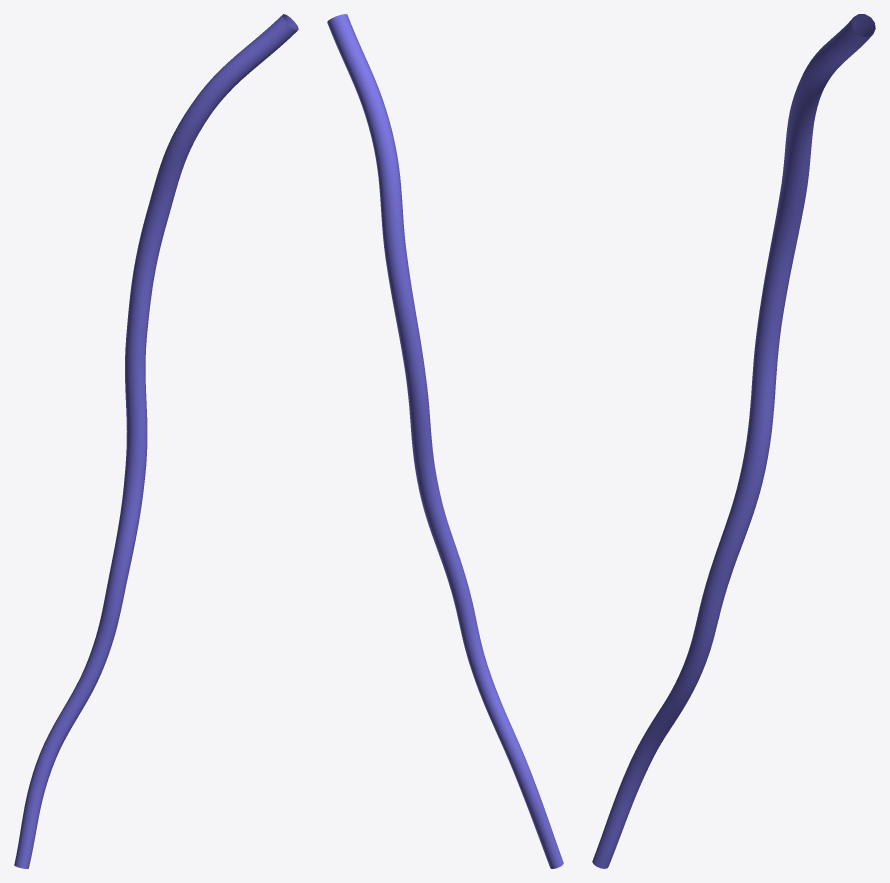
The model's file is Brachial_veins.r_BezierCurve.294.glb.
3 renders of one model, left to right at view 1: azimuth 30°, elevation 25°; view 2: azimuth 150°, elevation 25°; view 3: azimuth 330°, elevation 25°, orthographic. The views are drawn at different scales.
Parts seen in each view (by area): view 1: Brachial_veins.r_BezierCurve.294; view 2: Brachial_veins.r_BezierCurve.294; view 3: Brachial_veins.r_BezierCurve.294.
Boxes of the visible parts, left/top/right/bottom form: Brachial_veins.r_BezierCurve.294: left=14, top=14, right=298, bottom=868; Brachial_veins.r_BezierCurve.294: left=327, top=14, right=563, bottom=868; Brachial_veins.r_BezierCurve.294: left=592, top=14, right=875, bottom=868.
Bounding box in the file's own units: 0.0807 × 0.238 × 0.0259.
